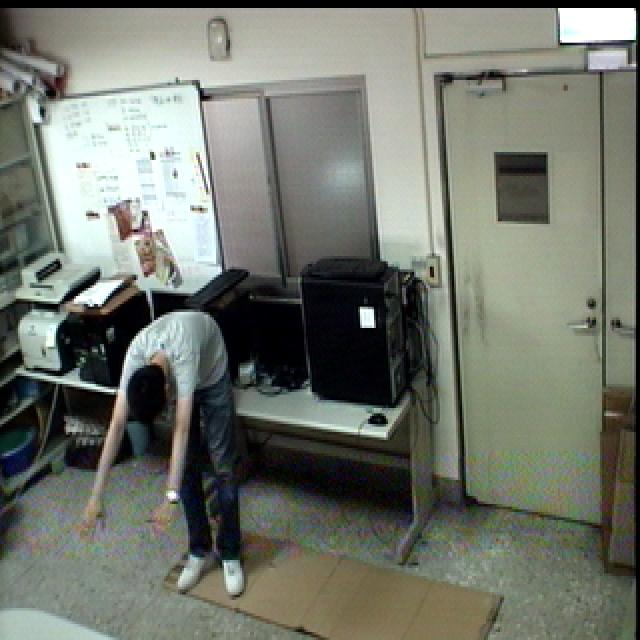bend: (70, 293, 257, 610)
